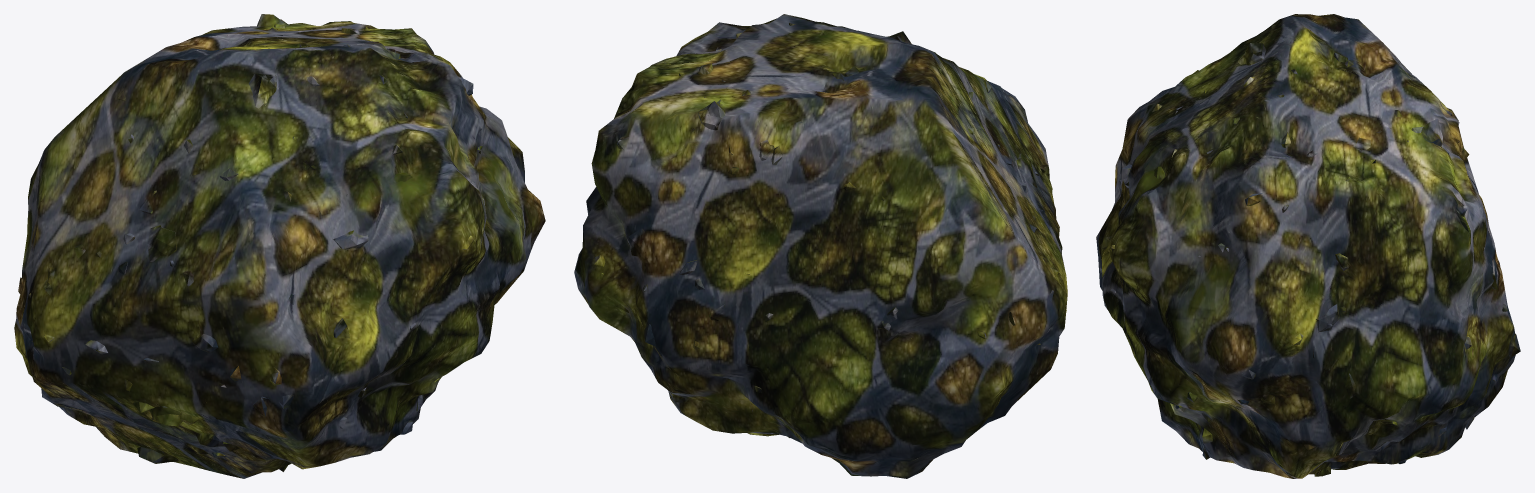
File: pallasite-cinematic.glb
The picture shows the model from 3 angles, left to right: view 1: azimuth 30°, elevation 25°; view 2: azimuth 150°, elevation 25°; view 3: azimuth 270°, elevation 25°; orthographic projection. The views are drawn at different scales.
Parts seen in each view (by area): view 1: pallasite fractured core; view 2: pallasite fractured core; view 3: pallasite fractured core.
Boxes of the visible parts, x1,y1,x2,y2 form: pallasite fractured core: (14,14,545,478); pallasite fractured core: (574,14,1067,478); pallasite fractured core: (1096,14,1520,478).
Bounding box in the file's own units: 2.12 × 1.83 × 1.7.
Materials: 1 (1 with a texture image).
